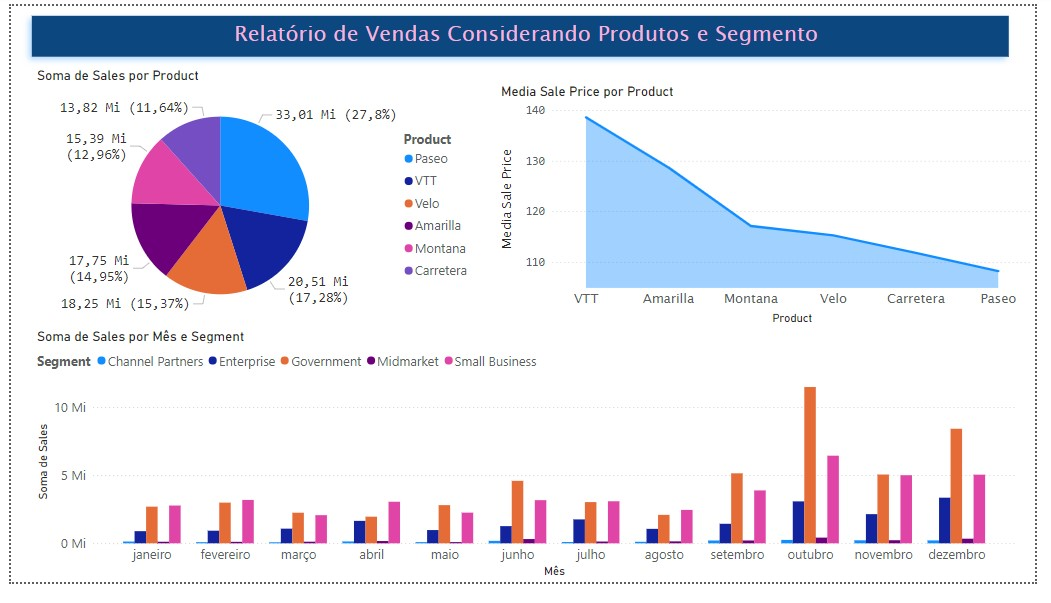

This screenshot's page, from the dashboard's own definition file:
{"tool":"powerbi","page":{"name":"Página 1","canvas":[1280,720],"ordinal":0},"visuals":[{"type":"shape","box":[14.3,0,1245.7,75.7],"z":0},{"type":"textbox","box":[27.1,10,1232.9,52.9],"z":1000},{"type":"pieChart","fields":{"Y":["Sum(financials. Sales)"],"Category":["financials.Product"]},"box":[27.1,75.7,557.1,327.1],"z":2000},{"type":"areaChart","fields":{"Y":["financials.Media Sale Price"],"Category":["financials.Product"]},"box":[607.1,95.7,672.9,307.1],"z":3000},{"type":"clusteredColumnChart","fields":{"Y":["Sum(financials. Sales)"],"Category":["financials.Date.Variation.Hierarquia de datas.Mês"],"Series":["financials.Segment"]},"box":[27.1,402.9,1232.9,317.1],"z":4000}]}

Visuals, with their boxes in screenshot pixels (x1, y1, x2, y2), scaled from the page's 1280x720 canvas onto the 1051x603 screenshot:
shape: select_region(12, 0, 1035, 63)
textbox: select_region(22, 8, 1035, 53)
pieChart - Sum(financials. Sales) x financials.Product: select_region(22, 63, 480, 337)
areaChart - financials.Media Sale Price x financials.Product: select_region(498, 80, 1050, 337)
clusteredColumnChart - Sum(financials. Sales) x financials.Date.Variation.Hierarquia de datas.Mês: select_region(22, 337, 1035, 602)
